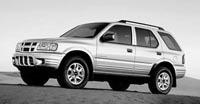car: (8, 20, 191, 99)
